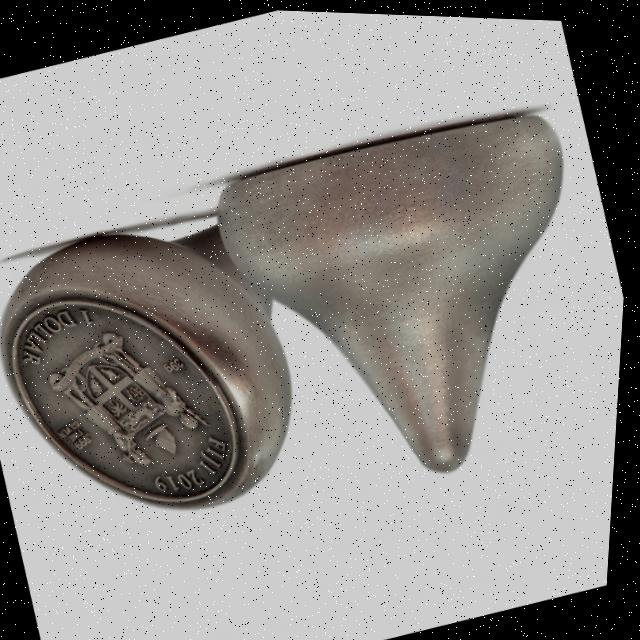kisses: (192, 71, 637, 521)
